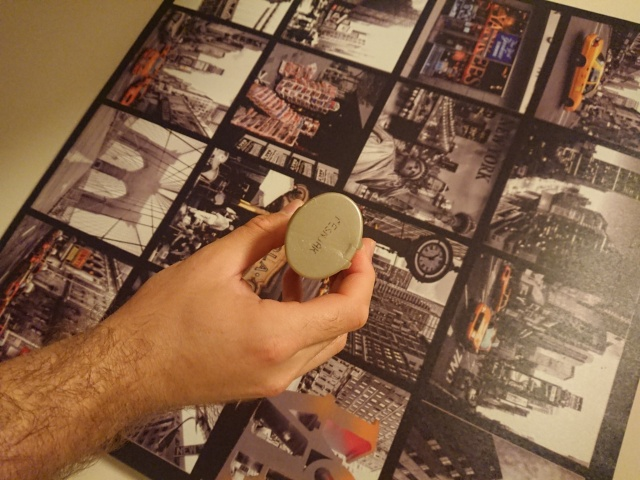Kotanyi Garlic Granules 70g: (283, 190, 365, 283)
